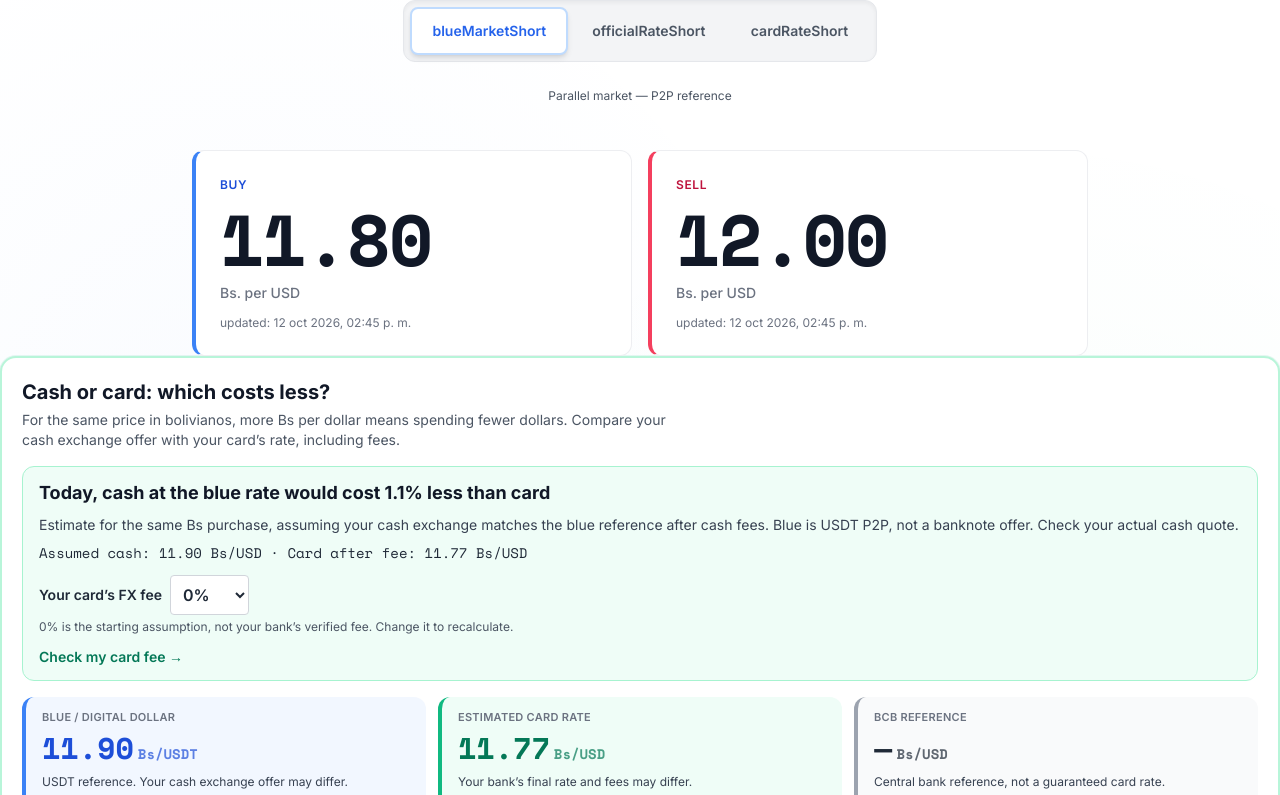
Test: synchronizes fees bidirectionally between top rate controls and daily comparison
This screenshot has width=1280, height=795.
Click the button with aria-label "Show US card exchange rate": (800, 31) [730,9,870,53]
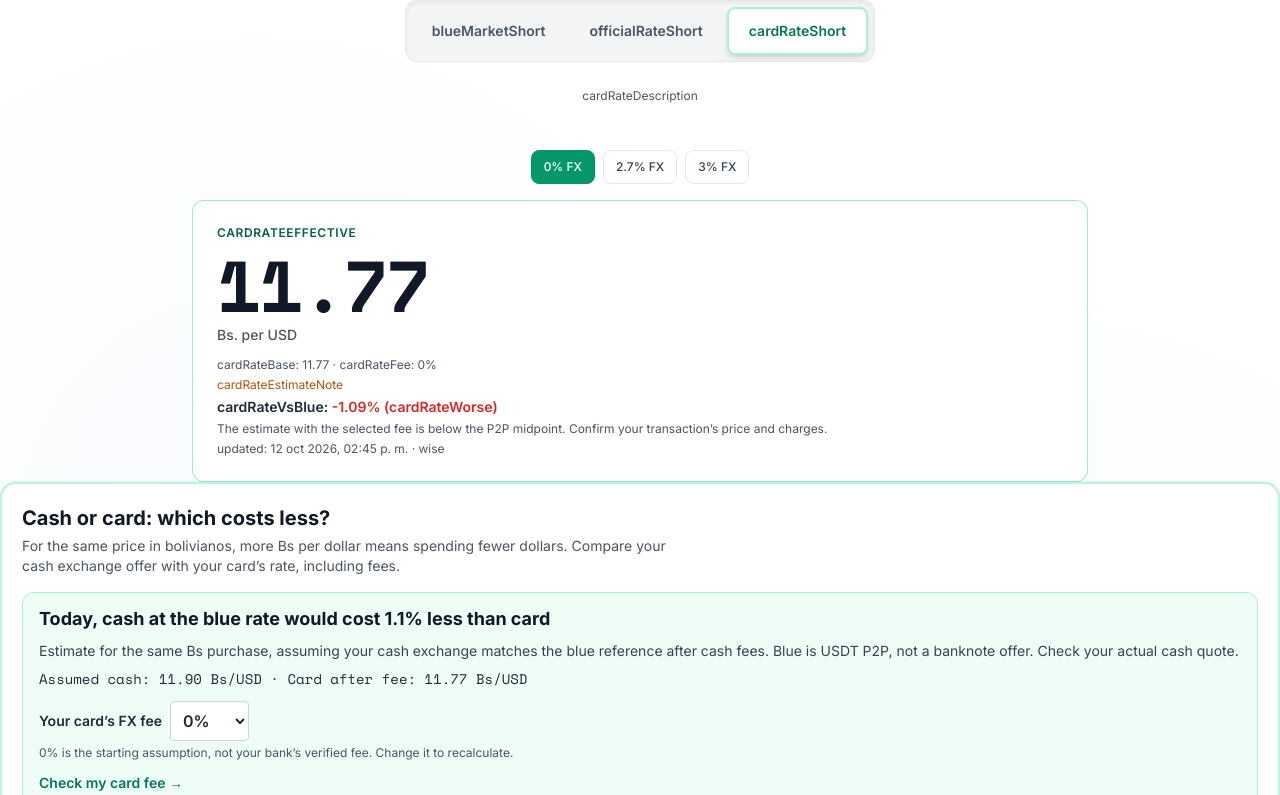
Click the option "3% FX": (717, 167) [685,150,749,184]
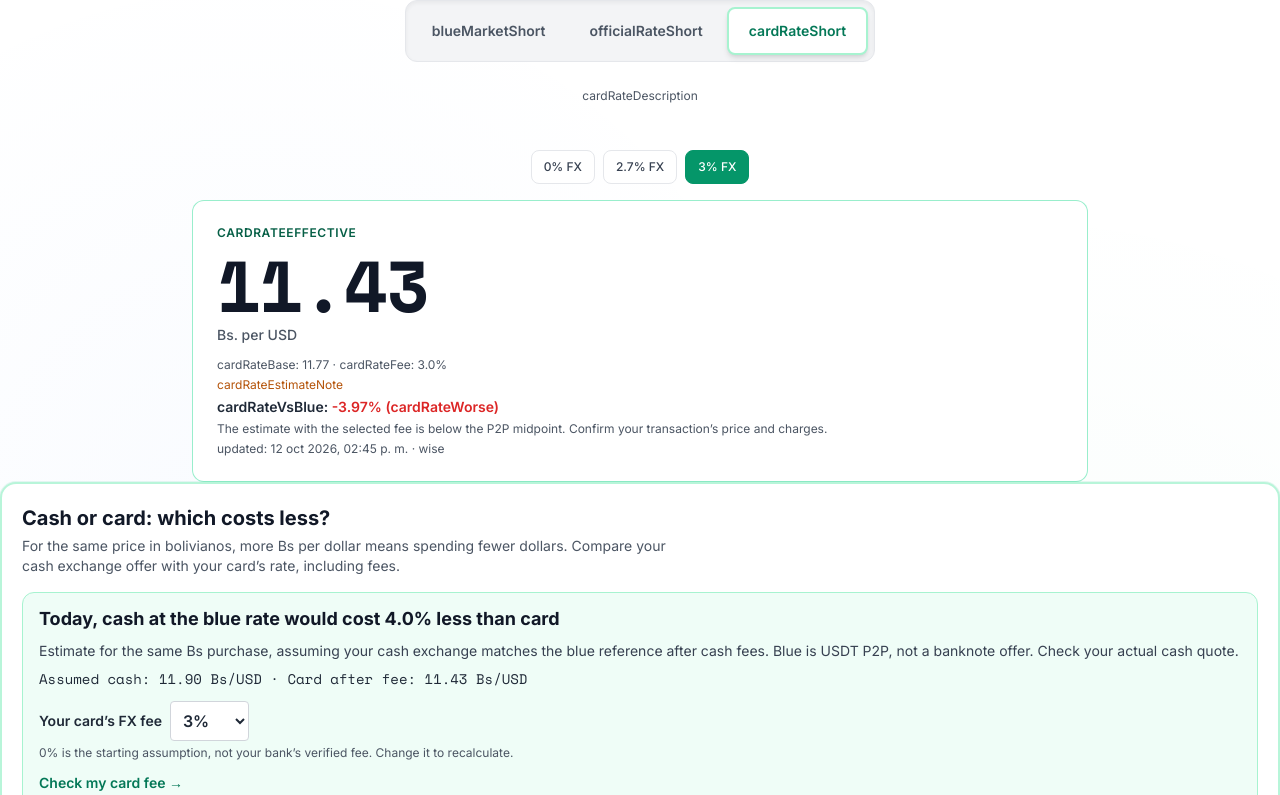
Now the dropdown shows "3%"
Now the text "4.0%" is shown, box [39,608,560,629]
Select "0%" in the dropdown: (209, 721) [170,701,249,741]
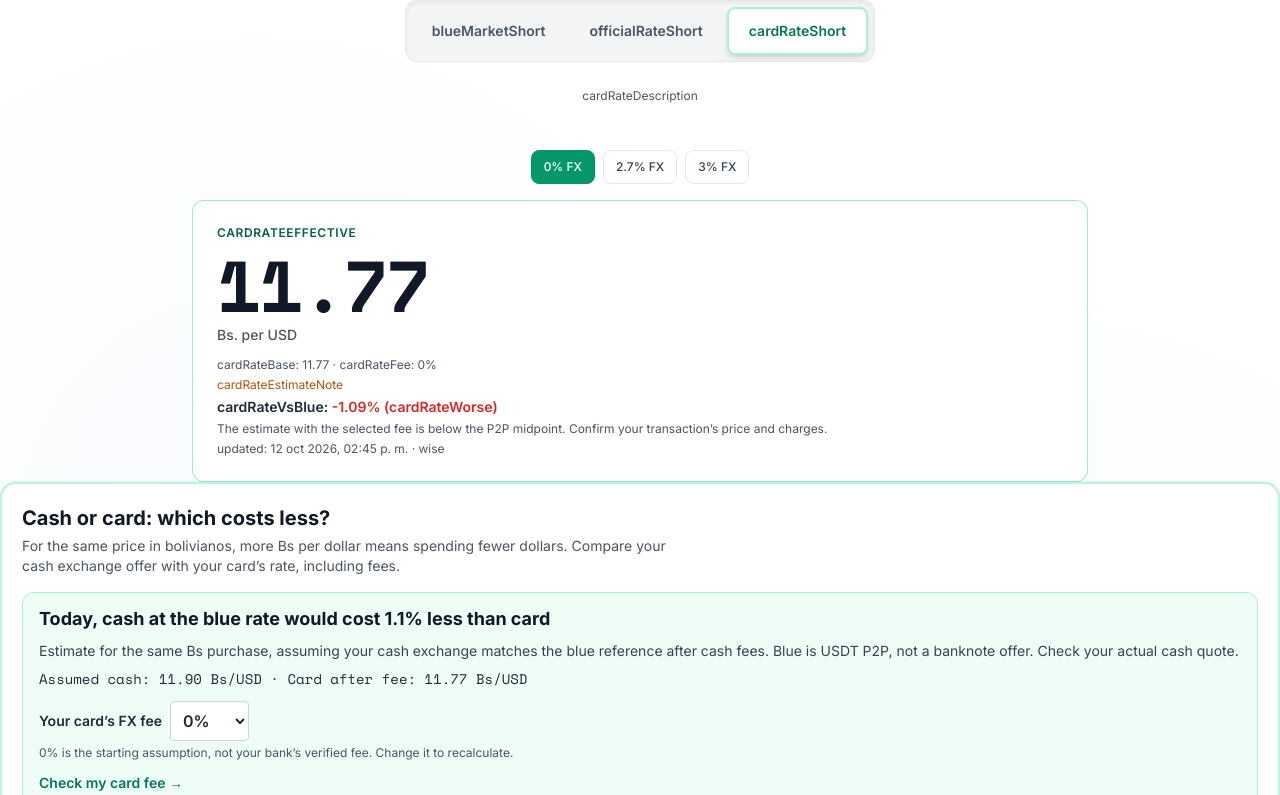
Now the text "1.1%" is shown, box [39,608,550,629]
